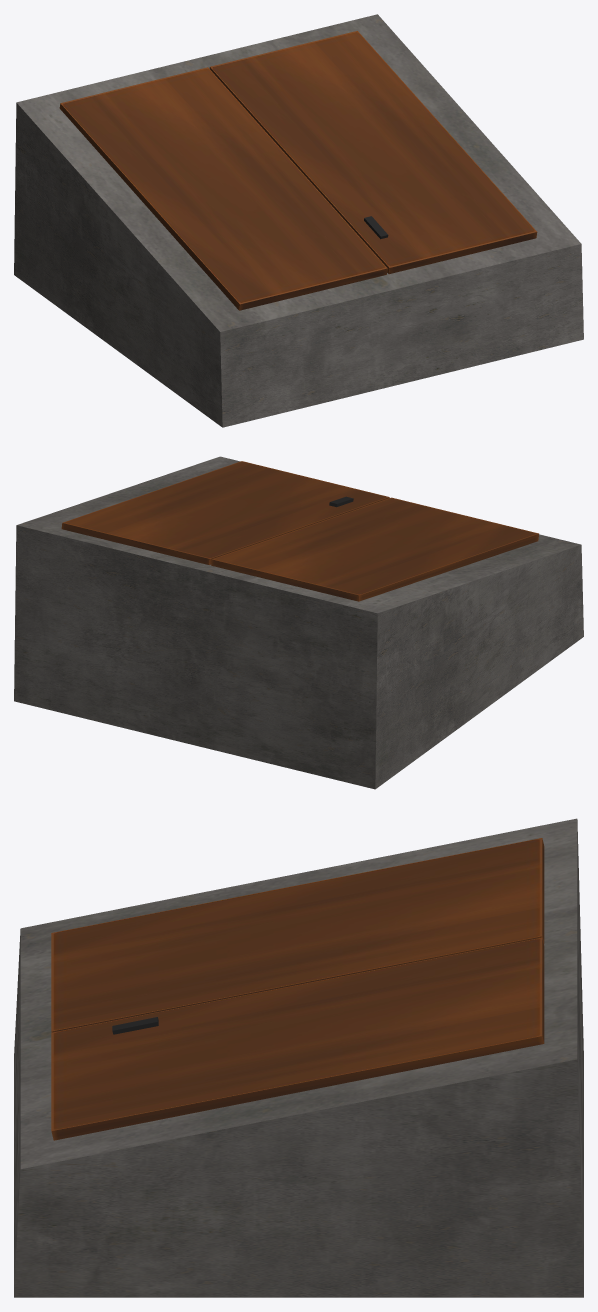
Rendered from Basement_door.glb.
3 renders of one model, top to bottom at view 1: azimuth 30°, elevation 25°; view 2: azimuth 150°, elevation 25°; view 3: azimuth 270°, elevation 25°, orthographic. The views are drawn at different scales.
Visible parts, largest first — view 1: Cube, Door2.001, Cube.001; view 2: Cube, Door2.001, Cube.001; view 3: Cube, Cube.001, Door2.001.
Part boxes in pixels (bbox=[...]): Cube: bbox=[14, 14, 583, 427]; Door2.001: bbox=[59, 67, 387, 310]; Cube.001: bbox=[209, 31, 537, 274]; Cube: bbox=[14, 456, 583, 789]; Door2.001: bbox=[211, 497, 538, 601]; Cube.001: bbox=[61, 461, 389, 564]; Cube: bbox=[14, 818, 583, 1297]; Cube.001: bbox=[51, 937, 544, 1140]; Door2.001: bbox=[51, 838, 544, 1032].
Size of the model in its own units: 5.4 by 2.5 by 5.4.
Materials: 4 (2 with a texture image).
